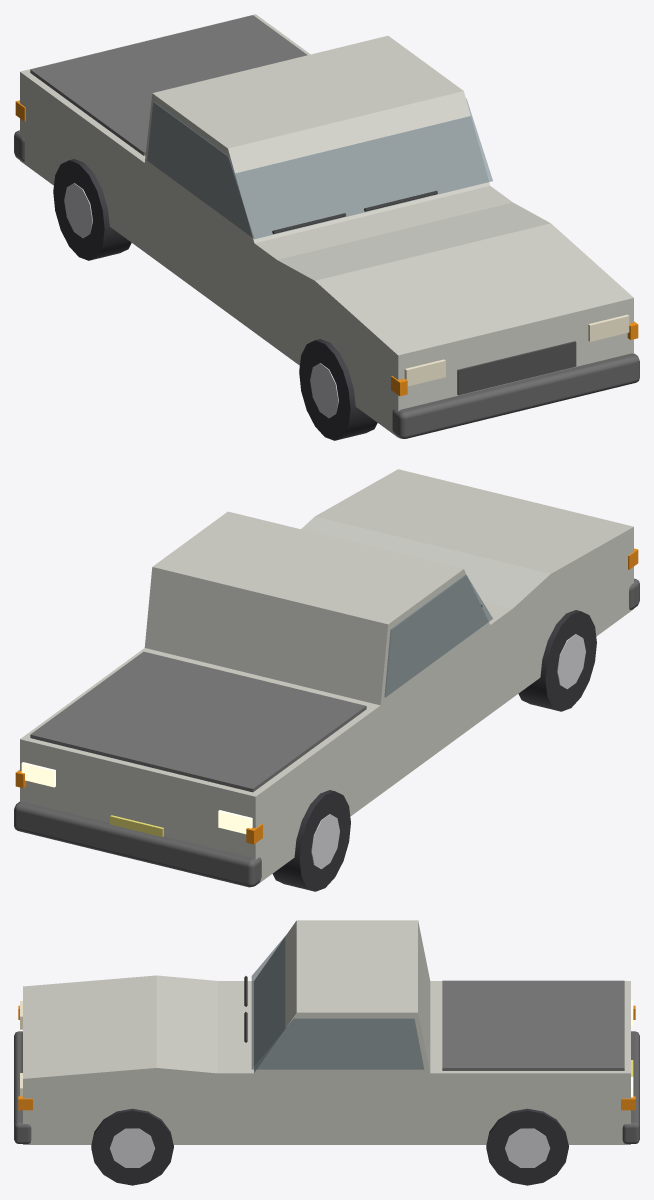
Rendered from ute.glb.
The picture shows the model from 3 angles, top to bottom: view 1: azimuth 30°, elevation 25°; view 2: azimuth 150°, elevation 25°; view 3: azimuth 270°, elevation 25°; orthographic projection. The views are drawn at different scales.
Parts seen in each view (by area): view 1: CarPaint, ute_detail_std, ute_detail_glass, ute_detail_metal, Headlight_L, Headlight_R; view 2: CarPaint, ute_detail_std, ute_detail_glass, ute_detail_metal, ute_detail_emit; view 3: CarPaint, ute_detail_std, ute_detail_glass, ute_detail_metal.
Boxes of the visible parts, x1,y1,x2,y2 form: CarPaint: (20,14,633,437); ute_detail_std: (14,15,639,440); ute_detail_glass: (147,98,492,238); ute_detail_metal: (64,183,338,418); Headlight_L: (588,314,629,341); Headlight_R: (404,359,445,386); CarPaint: (20,469,633,885); ute_detail_std: (14,578,639,891); ute_detail_glass: (384,575,492,697); ute_detail_metal: (311,634,585,869); ute_detail_emit: (21,762,252,834); CarPaint: (23,920,630,1144); ute_detail_std: (14,980,639,1185); ute_detail_glass: (251,936,423,1069); ute_detail_metal: (109,1128,550,1167).
Size of the model in its own units: 1.89 by 1.55 by 5.15.
